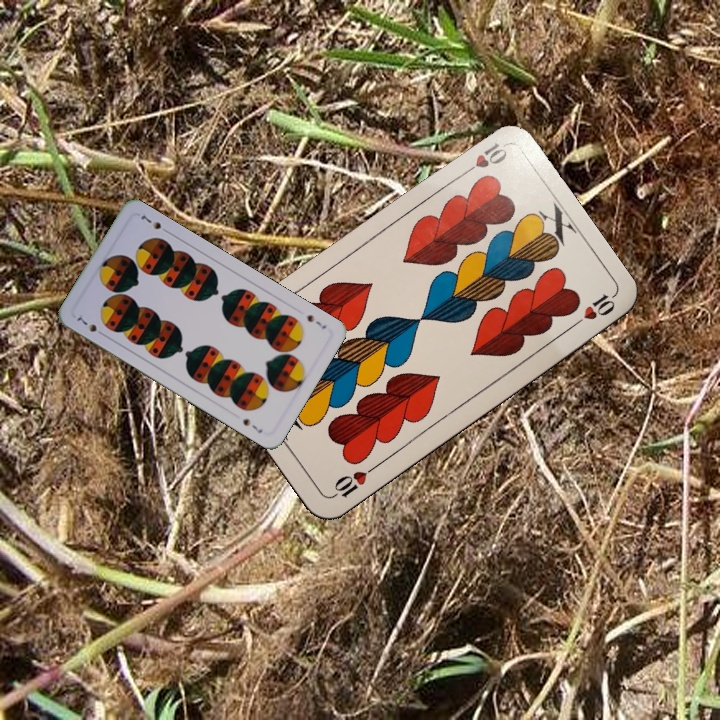H10: (456, 138, 510, 180), (328, 461, 379, 501)
S7: (72, 311, 108, 339), (303, 311, 329, 332)
